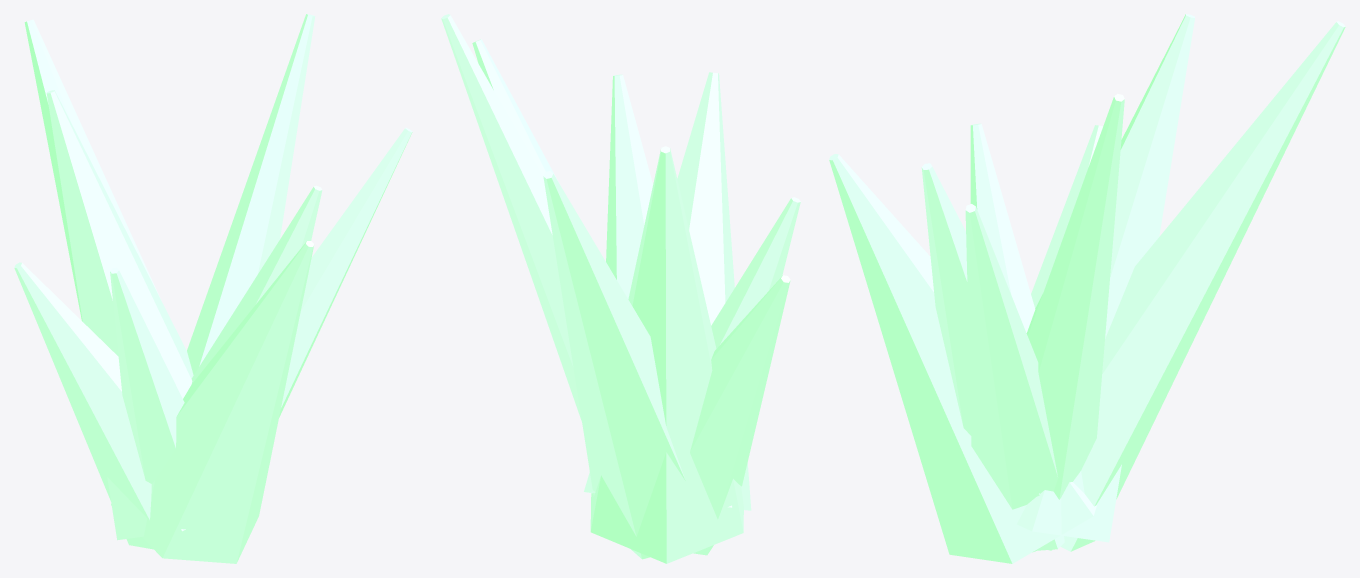
File: VFX_CrystalShards_Grass_v01.glb
3 renders of one model, left to right at view 1: azimuth 30°, elevation 25°; view 2: azimuth 150°, elevation 25°; view 3: azimuth 270°, elevation 25°, orthographic. The views are drawn at different scales.
Visible parts, largest first — view 1: MESH_CrystalShard_06, MESH_CrystalShard_03, MESH_CrystalShard_04, MESH_CrystalShard_05, MESH_CrystalShard_01, MESH_CrystalShard_07, MESH_CrystalShard_08, MESH_CrystalShard_02; view 2: MESH_CrystalShard_03, MESH_CrystalShard_08, MESH_CrystalShard_05, MESH_CrystalShard_04, MESH_CrystalShard_06, MESH_CrystalShard_02, MESH_CrystalShard_01, MESH_CrystalShard_07; view 3: MESH_CrystalShard_08, MESH_CrystalShard_06, MESH_CrystalShard_04, MESH_CrystalShard_07, MESH_CrystalShard_03, MESH_CrystalShard_02, MESH_CrystalShard_01, MESH_CrystalShard_05.
Part boxes in pixels (bbox=[...]): MESH_CrystalShard_06: bbox=[111, 241, 314, 563]; MESH_CrystalShard_03: bbox=[46, 90, 193, 540]; MESH_CrystalShard_04: bbox=[187, 14, 315, 374]; MESH_CrystalShard_05: bbox=[14, 262, 153, 549]; MESH_CrystalShard_01: bbox=[110, 267, 184, 483]; MESH_CrystalShard_07: bbox=[279, 127, 412, 417]; MESH_CrystalShard_08: bbox=[24, 19, 161, 321]; MESH_CrystalShard_02: bbox=[191, 185, 322, 383]; MESH_CrystalShard_03: bbox=[590, 146, 743, 563]; MESH_CrystalShard_08: bbox=[543, 171, 685, 559]; MESH_CrystalShard_05: bbox=[690, 275, 790, 555]; MESH_CrystalShard_04: bbox=[441, 14, 581, 421]; MESH_CrystalShard_06: bbox=[584, 72, 751, 510]; MESH_CrystalShard_02: bbox=[606, 74, 652, 298]; MESH_CrystalShard_01: bbox=[711, 197, 800, 348]; MESH_CrystalShard_07: bbox=[472, 39, 559, 183]; MESH_CrystalShard_08: bbox=[1060, 21, 1345, 551]; MESH_CrystalShard_06: bbox=[829, 154, 1096, 563]; MESH_CrystalShard_04: bbox=[1028, 93, 1124, 550]; MESH_CrystalShard_07: bbox=[965, 204, 1057, 552]; MESH_CrystalShard_03: bbox=[1016, 14, 1194, 542]; MESH_CrystalShard_02: bbox=[921, 163, 1064, 550]; MESH_CrystalShard_01: bbox=[970, 123, 1035, 332]; MESH_CrystalShard_05: bbox=[1031, 125, 1102, 308].
Size of the model in its own units: 0.1676 by 0.2161 by 0.1864.
